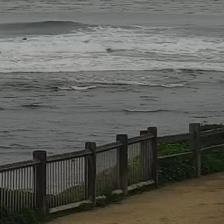surfer: (22, 38, 28, 40), (0, 51, 2, 54)
